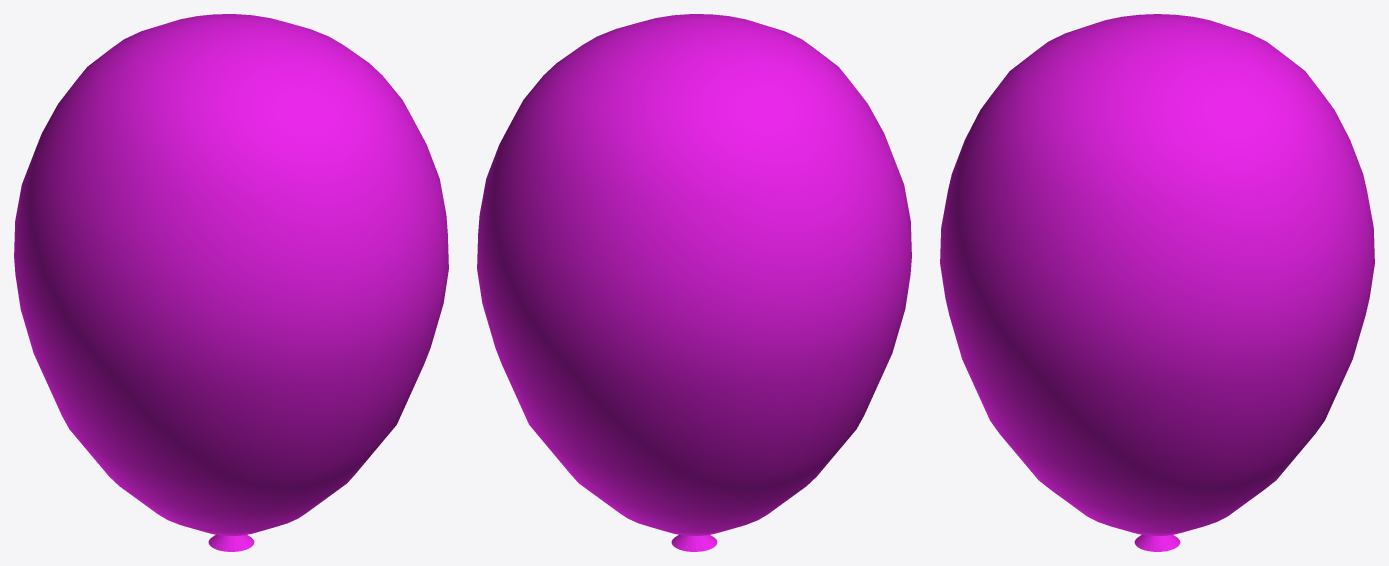
File: baudruche.gltf
3 views of the same model, side by side, from view 1: azimuth 30°, elevation 25°; view 2: azimuth 150°, elevation 25°; view 3: azimuth 270°, elevation 25° (orthographic).
Visible parts, largest first — view 1: ballon; view 2: ballon; view 3: ballon.
Part boxes in pixels (<box>): ballon: <box>14,14,448,551</box>; ballon: <box>477,14,911,551</box>; ballon: <box>940,14,1374,551</box>.
Bounding box in the file's own units: 2.05 × 2.63 × 2.05.
